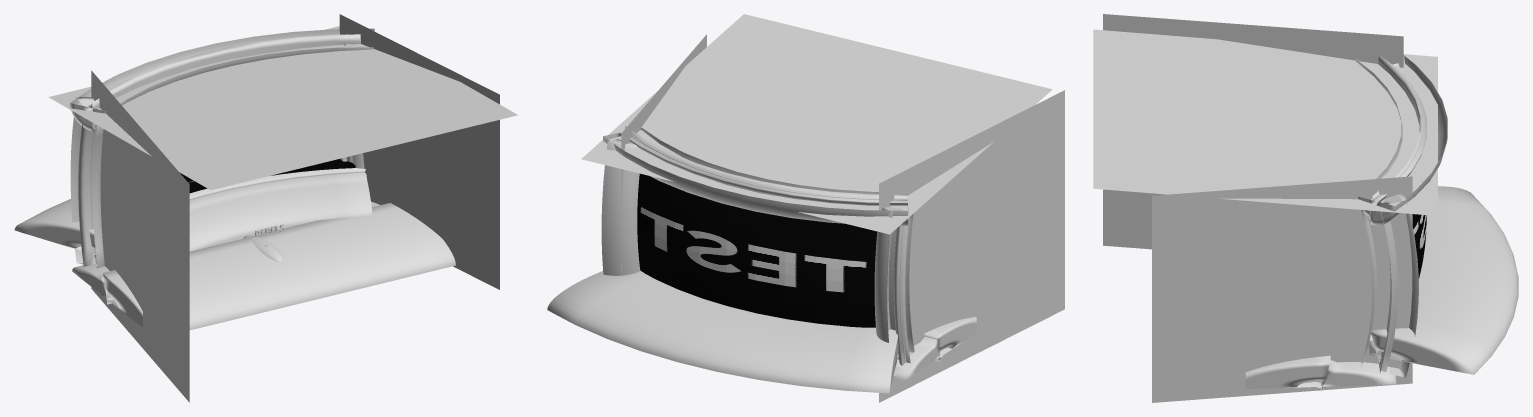
File: cabin.fbx
3 views of the same model, side by side, from view 1: azimuth 30°, elevation 25°; view 2: azimuth 150°, elevation 25°; view 3: azimuth 270°, elevation 25° (orthographic). The views are drawn at different scales.
Parts seen in each view (by area): view 1: Plane, Grid.005, Plane.001, Plane.002, Grid.002, Grid.001, Grid.003, ScreenProjector; view 2: Plane, Plane.001, Screen, Grid.002, Grid.001, Grid.003, Grid.004, Grid.005, Plane.002; view 3: Plane, Plane.002, Grid.002, Plane.001, Grid.005, Grid.001, Grid.004, Screen.
Part boxes in pixels (box(x1,y1,x2,y2)): Plane: box(48, 26, 517, 190); Grid.005: box(72, 201, 455, 330); Plane.001: box(91, 70, 189, 402); Plane.002: box(339, 14, 499, 289); Grid.002: box(14, 168, 372, 257); Grid.001: box(70, 28, 374, 131); Grid.003: box(70, 97, 104, 268); ScreenProjector: box(188, 160, 355, 193); Plane: box(581, 14, 1052, 234); Plane.001: box(879, 90, 1064, 402); Screen: box(637, 173, 877, 327); Grid.002: box(547, 271, 898, 393); Grid.001: box(603, 126, 908, 225); Grid.003: box(874, 207, 914, 377); Grid.004: box(601, 139, 640, 275); Grid.005: box(893, 317, 976, 380); Plane.002: box(621, 34, 706, 276); Plane: box(1093, 29, 1437, 215); Plane.002: box(1152, 176, 1412, 402); Grid.002: box(1369, 186, 1518, 374); Plane.001: box(1103, 14, 1403, 249); Grid.005: box(1245, 355, 1396, 391); Grid.001: box(1355, 54, 1447, 225); Grid.004: box(1361, 193, 1418, 377); Screen: box(1412, 214, 1426, 278).
Bounding box in the file's own units: 1119 × 736 × 1140.
